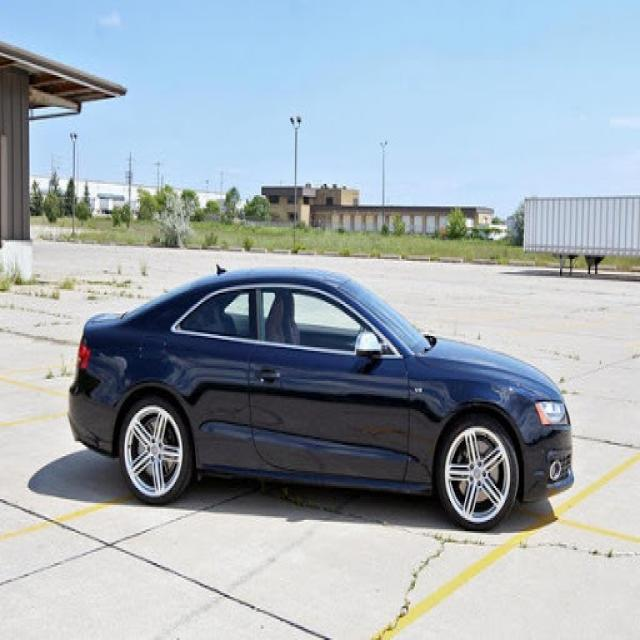car: (68, 265, 575, 530)
